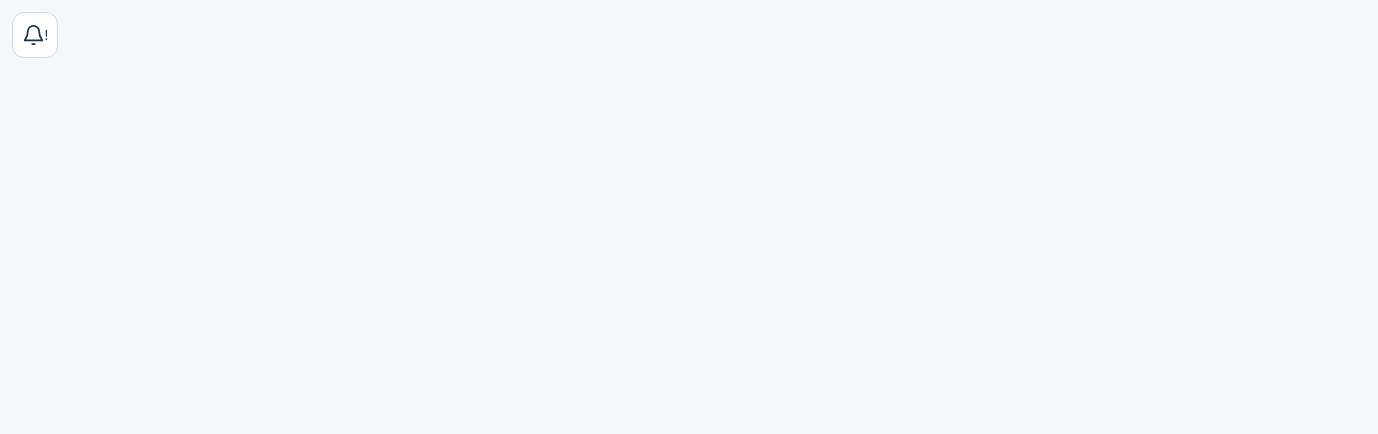
Test: counts fail visibly instead of pretending nothing is pending
Click the button with class "notification-bell".
click(35, 35)  # box [12, 12, 58, 58]
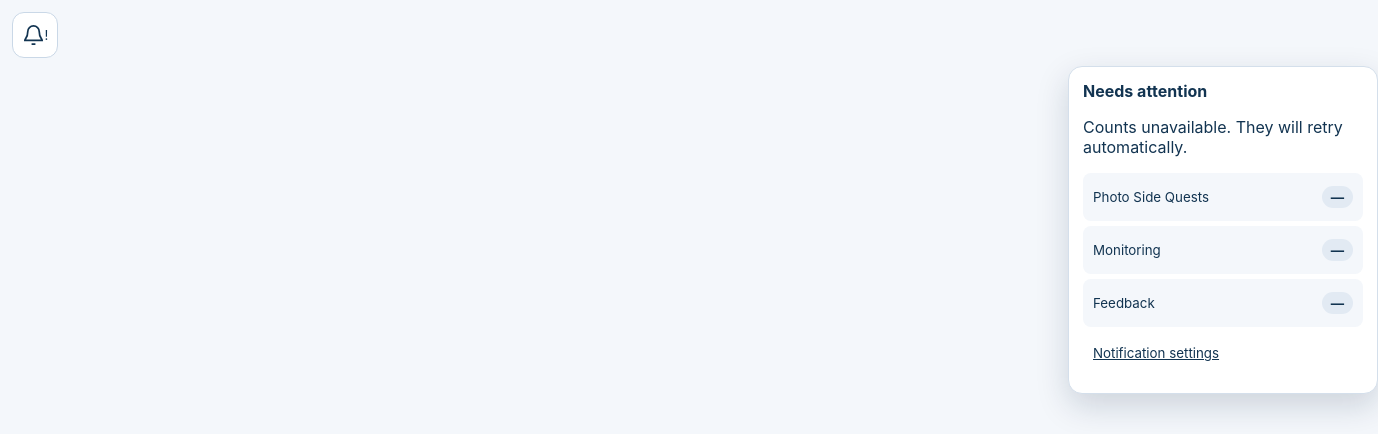
Check: the text "Counts unavailable" is shown, box [1083, 117, 1343, 157]
